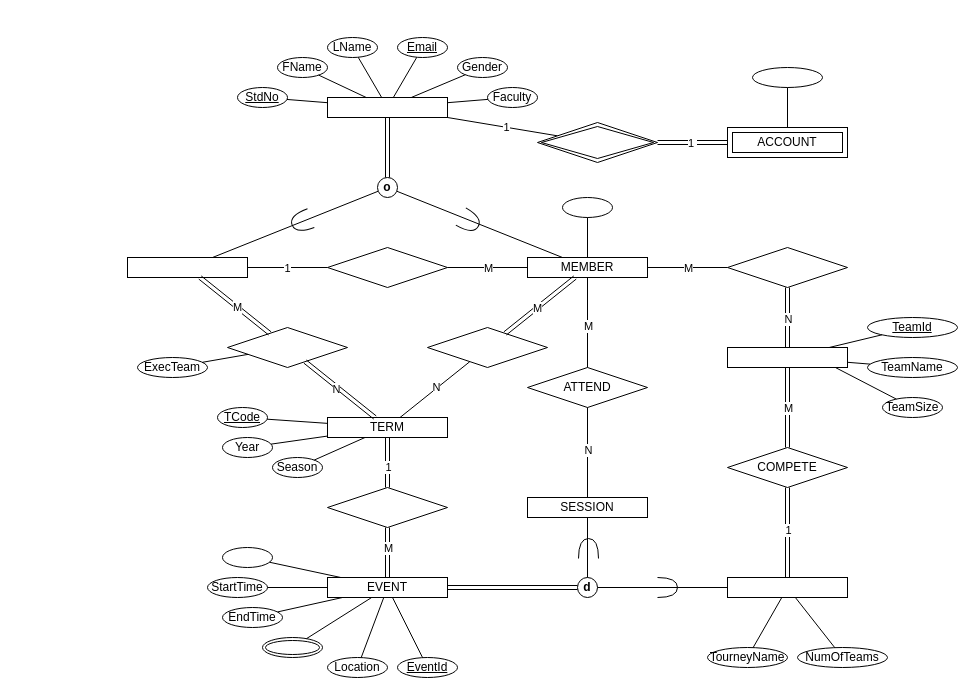
The diagram is 975 pixels wide and 695 high, and some of its shapes have lost their labels. The shapes that lost their labels are listed below. From the top down, each one's centre as x and y in pixels, then its label:
At pixel 787 77: "Password".
At pixel 387 107: "STUDENT".
At pixel 597 142: "USES".
At pixel 587 207: "Level".
At pixel 187 267: "EXECUTIVE".
At pixel 387 267: "ASSIGN_ LEVEL".
At pixel 787 267: "MAKE".
At pixel 287 347: "WORKS_FOR".
At pixel 487 347: "VALID_FOR".
At pixel 787 357: "TEAM".
At pixel 387 507: "HAS".
At pixel 247 557: "Date".
At pixel 787 587: "TOURNAMENT".
At pixel 292 647: "Levels".
